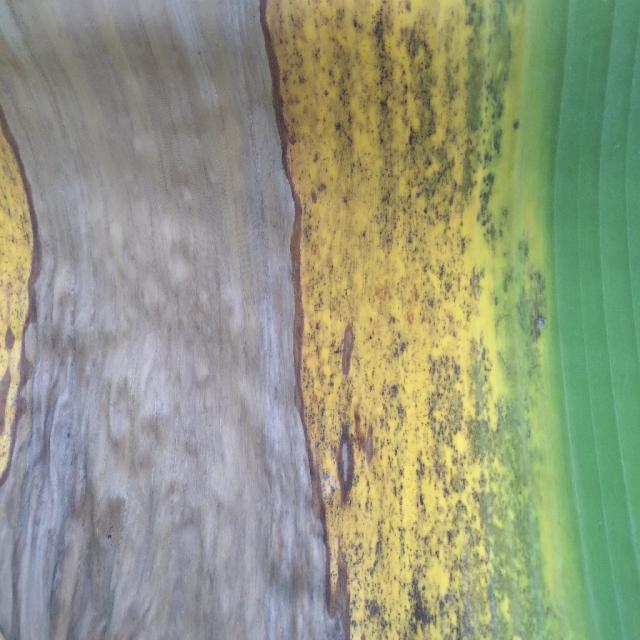Early_rust: (220, 0, 592, 640), (0, 74, 104, 502)
